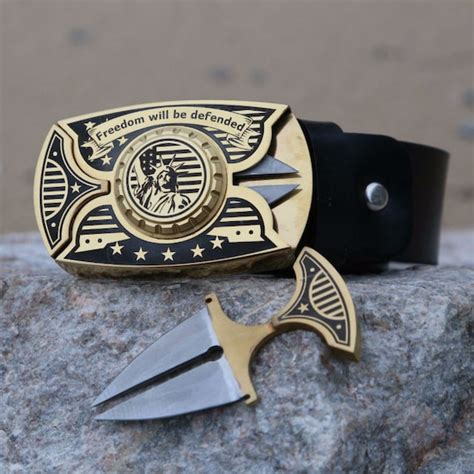knife: (89, 249, 360, 422)
